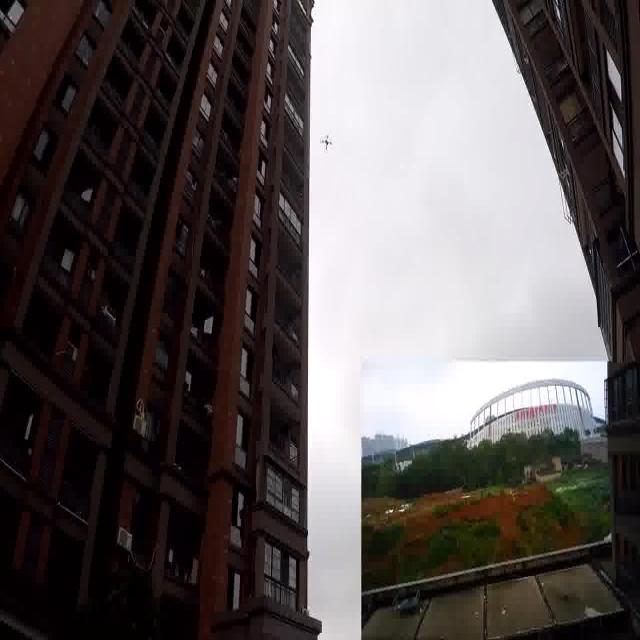drone: (322, 129, 336, 155)
